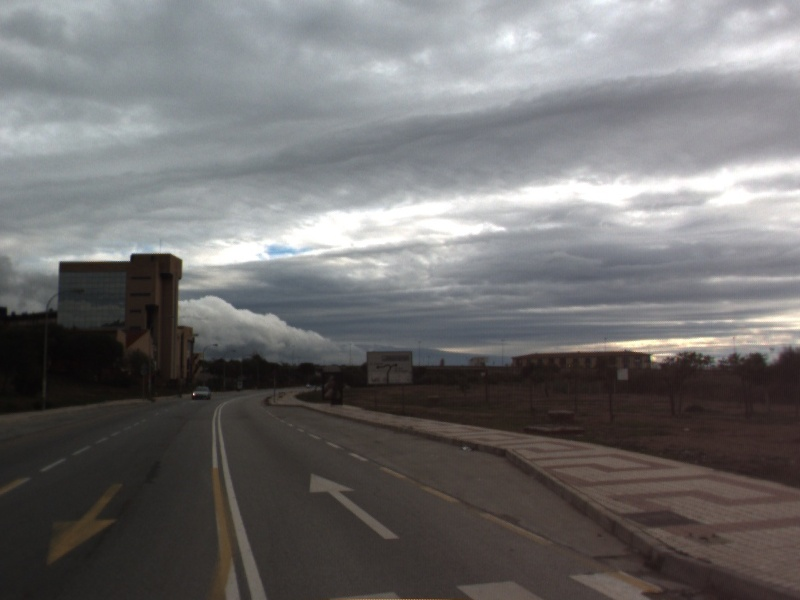STRAIGHT: (307, 470, 403, 541)
